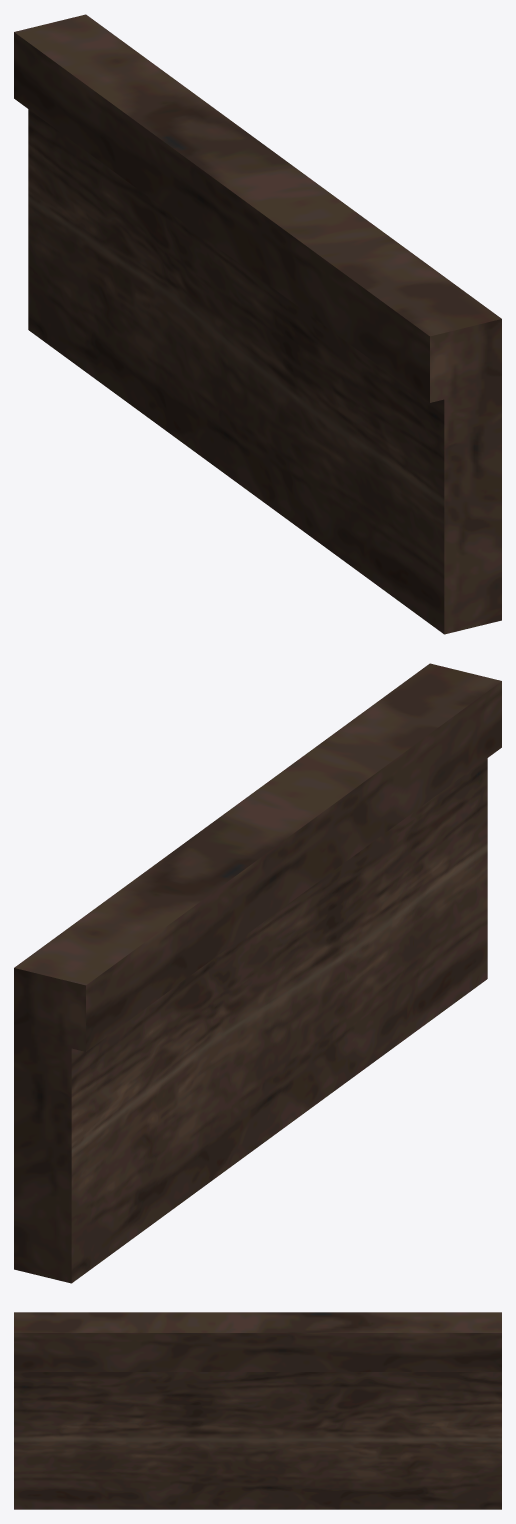
Rendered from HalfWall.fbx.
3 views of the same model, one above another, from view 1: azimuth 30°, elevation 25°; view 2: azimuth 150°, elevation 25°; view 3: azimuth 270°, elevation 25° (orthographic). The views are drawn at different scales.
Visible parts, largest first — view 1: SM_Env_Wall_Wallpanel001; view 2: SM_Env_Wall_Wallpanel001; view 3: SM_Env_Wall_Wallpanel001.
Boxes of the visible parts, x1,y1,x2,y2 form: SM_Env_Wall_Wallpanel001: (14,14,501,634); SM_Env_Wall_Wallpanel001: (14,663,501,1283); SM_Env_Wall_Wallpanel001: (14,1312,501,1509).
Size of the model in its own units: 0.5 by 5 by 2.
